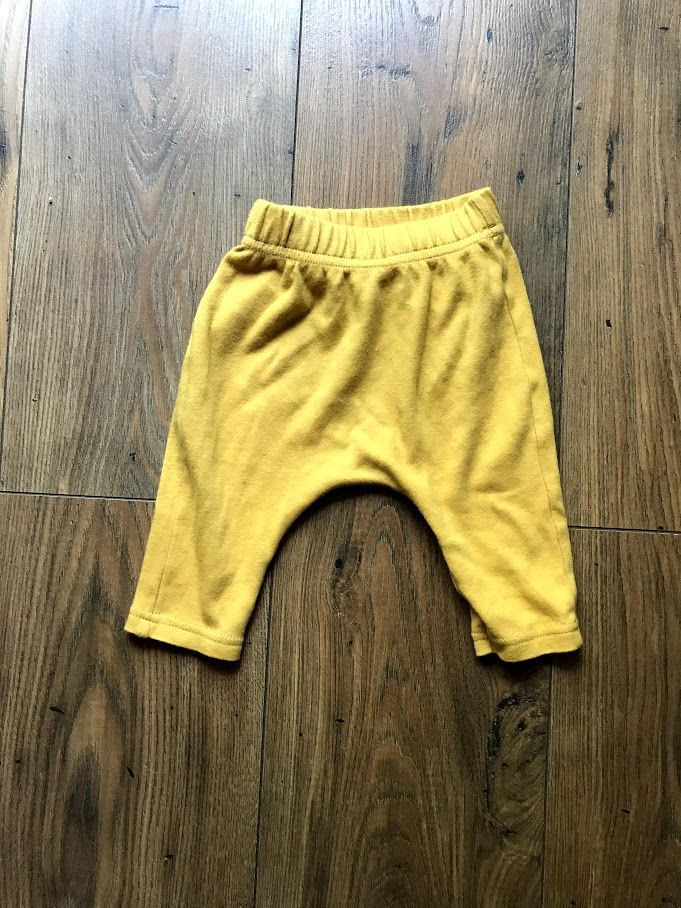clothes: (135, 187, 579, 666)
